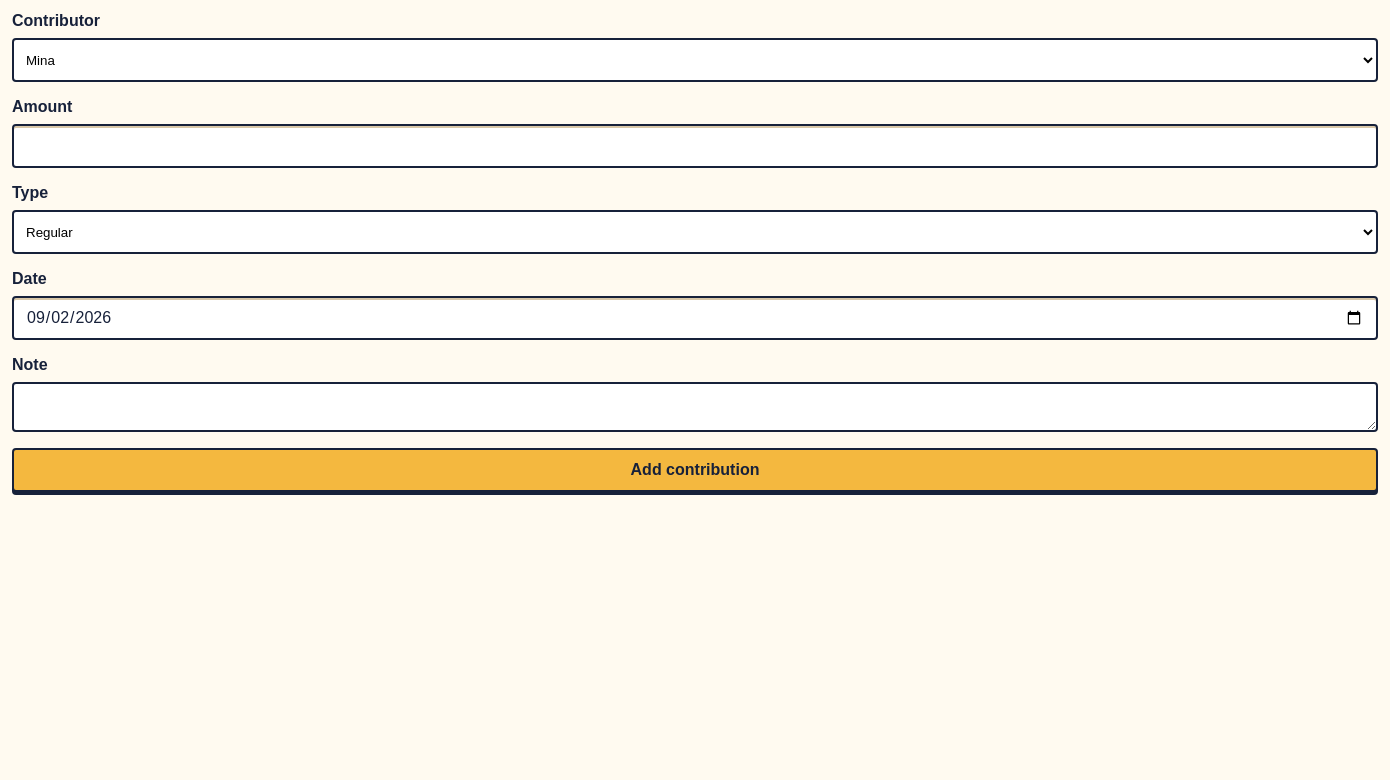
Scenario: keeps entries and gives a retry action when the network is unavailable
Type "50" into the field labelled "Amount" at (695,146), box left=12, top=124, right=1378, bottom=168
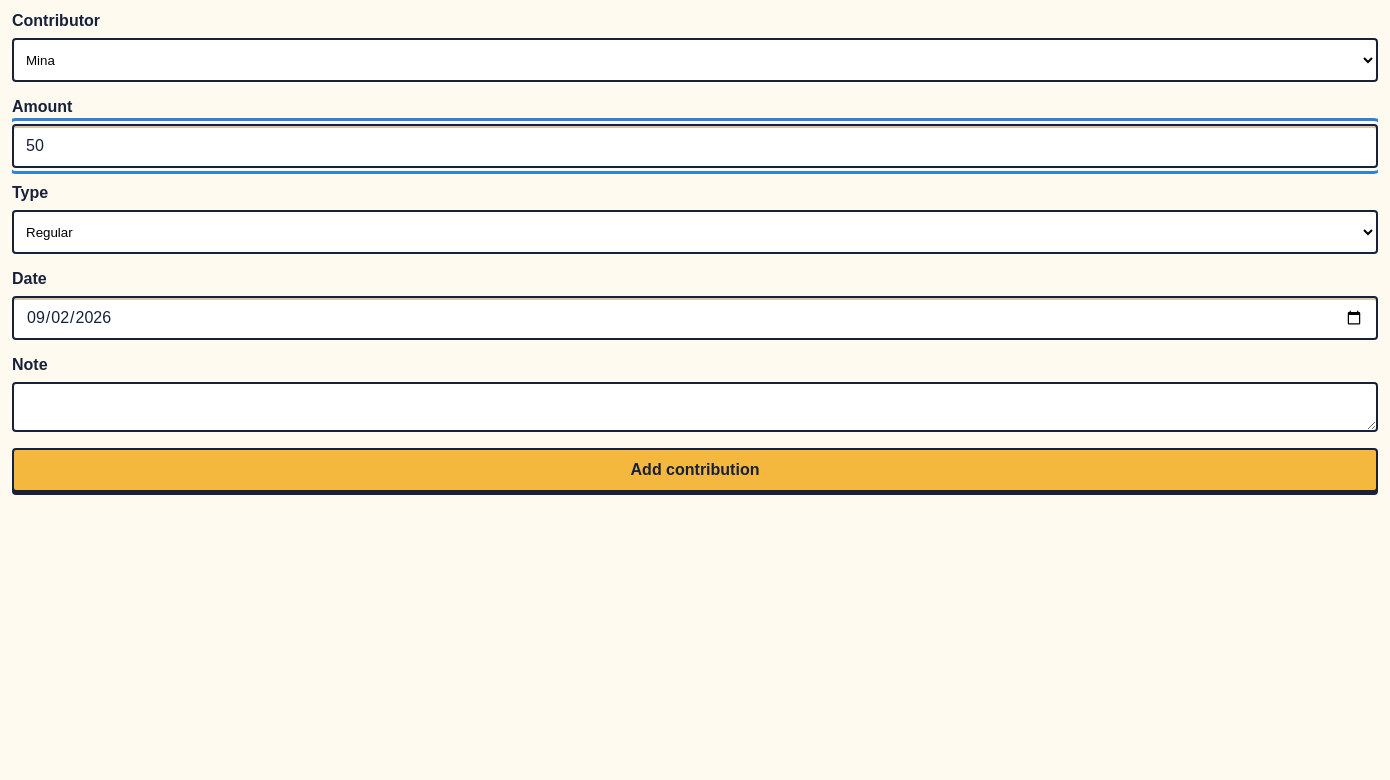
Click the button "Add contribution" at (695,470), box left=12, top=448, right=1378, bottom=492
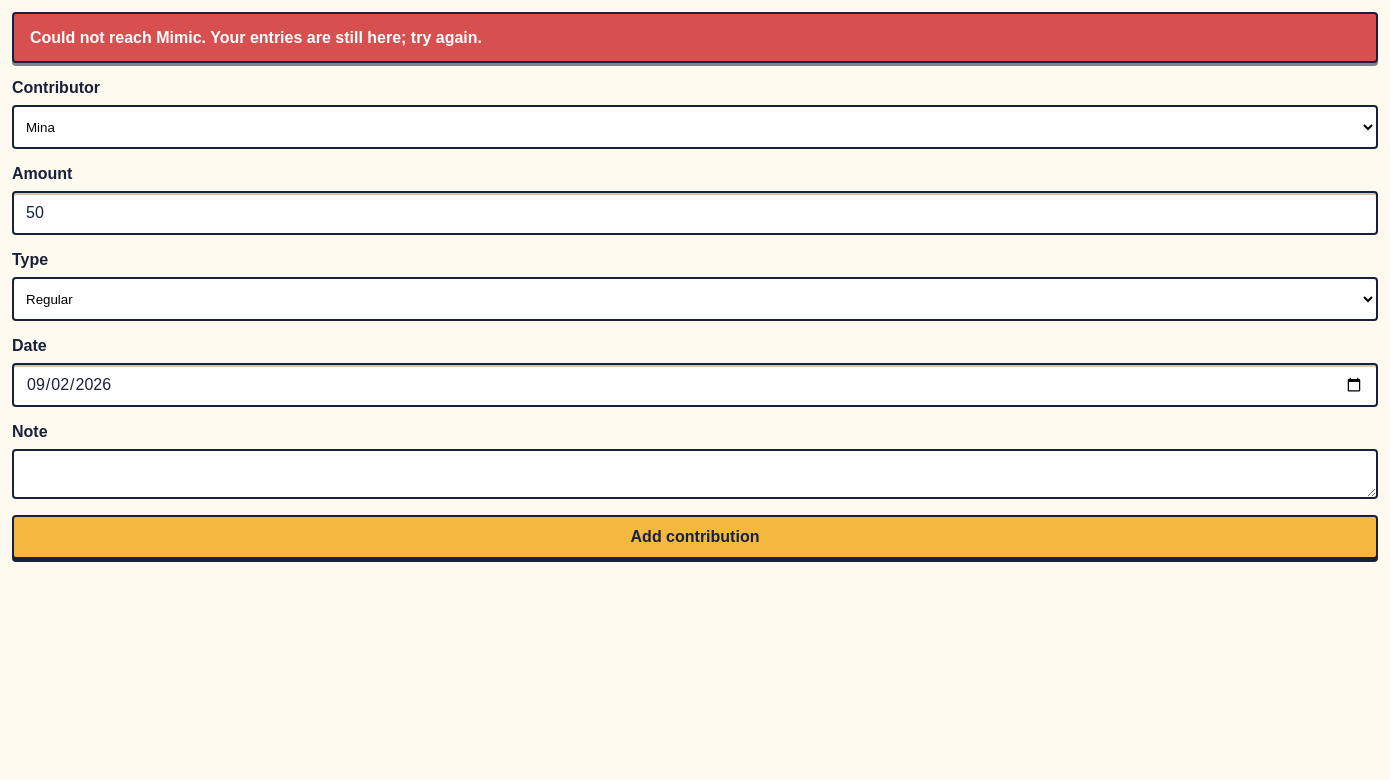
expect the message shows "Your entries are still here; try again": met, box left=30, top=29, right=482, bottom=46
